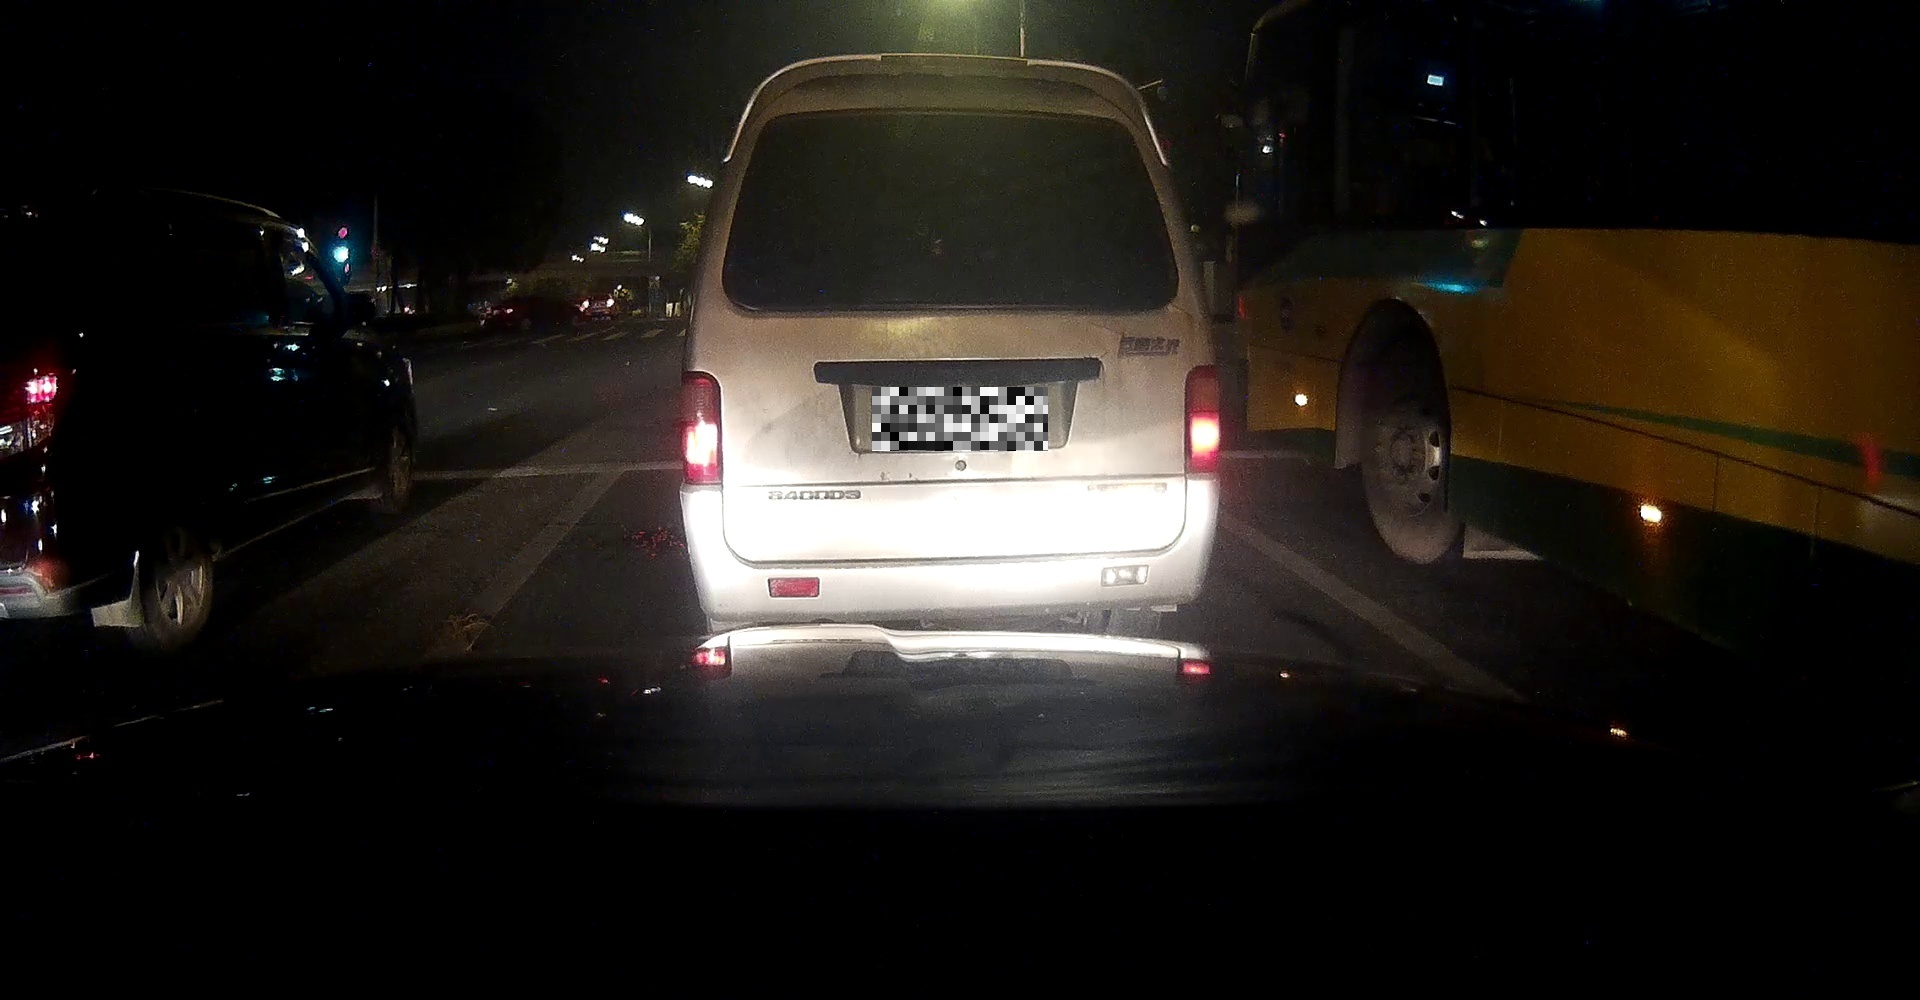L_light: (679, 371, 723, 486)
R_light: (1182, 365, 1220, 475)
T_light: (908, 110, 987, 126)
night-no: (679, 51, 1220, 640)
plate_1: (872, 387, 1048, 451)
